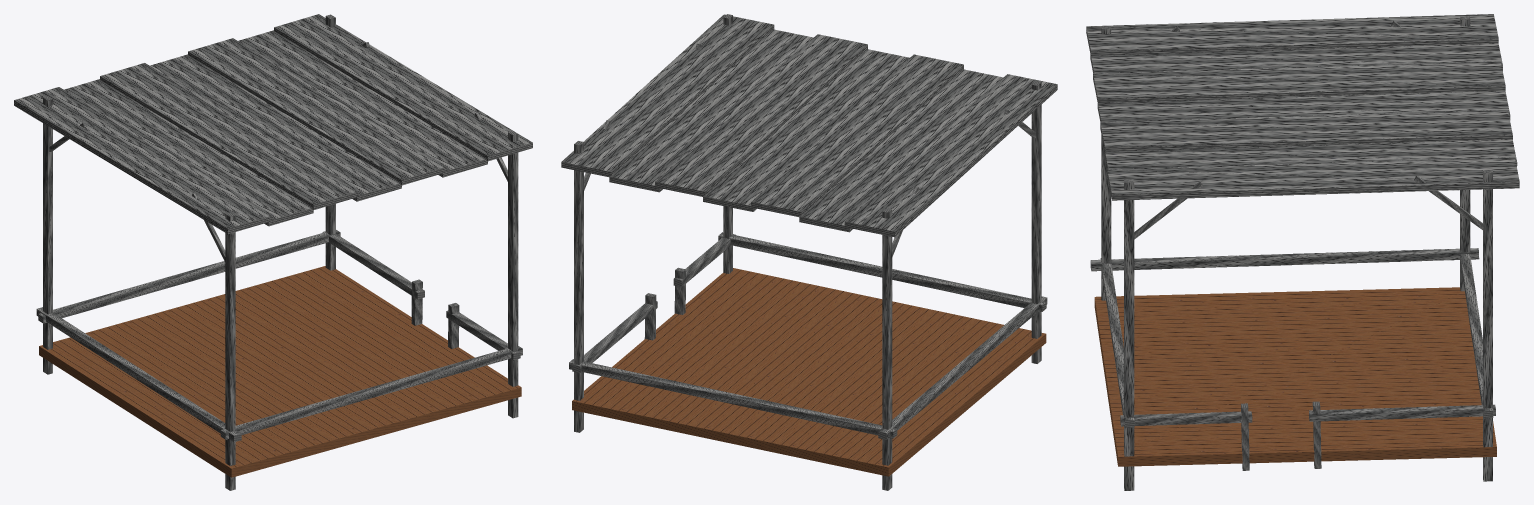
File: Stal1.fbx
The picture shows the model from 3 angles, left to right: view 1: azimuth 30°, elevation 25°; view 2: azimuth 150°, elevation 25°; view 3: azimuth 270°, elevation 25°; orthographic projection. The views are drawn at different scales.
Visible parts, largest first — view 1: WoodAlt; view 2: WoodAlt; view 3: WoodAlt.
Part boxes in pixels (<box>): WoodAlt: <box>14,14,532,490</box>; WoodAlt: <box>561,14,1057,490</box>; WoodAlt: <box>1086,14,1519,490</box>.
Bounding box in the file's own units: 821 × 647 × 824.
2 materials, 2 textured.
